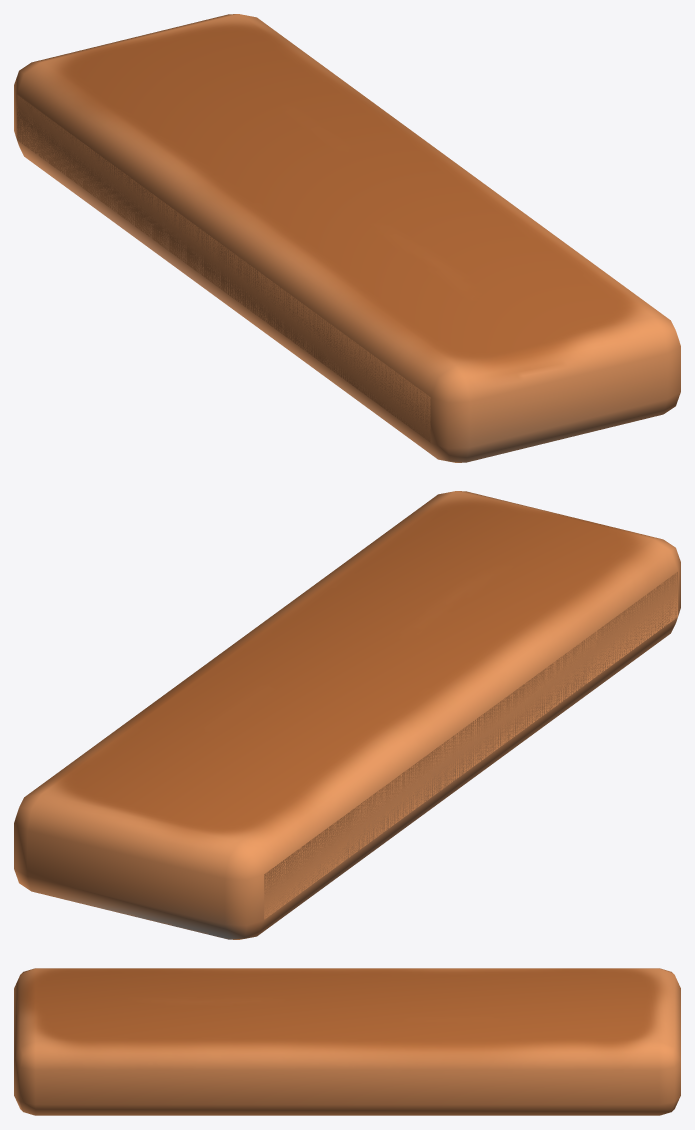
The model's file is wood.fbx.
The picture shows the model from 3 angles, top to bottom: view 1: azimuth 30°, elevation 25°; view 2: azimuth 150°, elevation 25°; view 3: azimuth 270°, elevation 25°; orthographic projection. The views are drawn at different scales.
Visible parts, largest first — view 1: castle gate.001; view 2: castle gate.001; view 3: castle gate.001.
Boxes of the visible parts, x1=… form: castle gate.001: x1=14, y1=14, x2=680, y2=462; castle gate.001: x1=14, y1=491, x2=680, y2=939; castle gate.001: x1=14, y1=968, x2=680, y2=1115.
Size of the model in its own units: 78.85 by 29.77 by 244.
